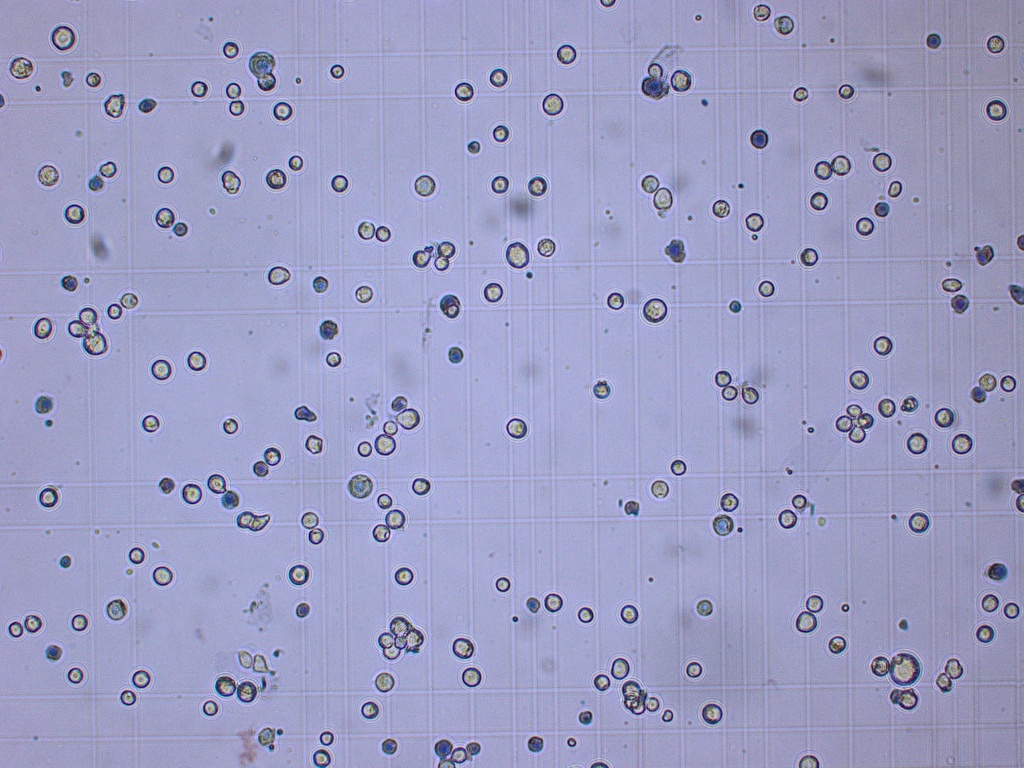Alive: (891, 652, 921, 684), (238, 511, 271, 532), (505, 242, 529, 270), (642, 298, 667, 322), (84, 334, 107, 356), (181, 482, 204, 504), (348, 475, 371, 497), (451, 638, 475, 659), (104, 94, 124, 119), (670, 69, 692, 91), (53, 26, 74, 49), (10, 58, 33, 79), (908, 511, 929, 533), (38, 164, 59, 186), (506, 418, 527, 439), (702, 703, 723, 724), (796, 611, 816, 633), (543, 94, 563, 116), (155, 207, 175, 229), (106, 600, 128, 620), (396, 410, 419, 429), (906, 434, 927, 454), (385, 509, 406, 529), (415, 177, 436, 197), (66, 203, 86, 224), (151, 360, 172, 380), (611, 657, 630, 679), (222, 171, 240, 194), (238, 680, 256, 703), (266, 170, 286, 190), (153, 565, 173, 585), (653, 187, 672, 208), (375, 435, 396, 454), (34, 318, 53, 339), (188, 351, 207, 372), (216, 675, 235, 696), (934, 408, 956, 426), (268, 267, 290, 285), (872, 152, 892, 171), (987, 100, 1006, 120), (537, 237, 556, 257), (556, 45, 576, 64), (775, 15, 794, 34), (488, 68, 507, 87), (544, 593, 563, 612), (289, 565, 308, 584), (207, 474, 226, 493), (871, 657, 891, 675), (483, 284, 503, 302), (305, 434, 323, 454), (390, 616, 408, 636), (849, 372, 870, 389), (778, 509, 796, 528), (872, 337, 891, 355), (832, 156, 851, 174), (987, 35, 1005, 54), (944, 659, 963, 677), (620, 605, 639, 623), (528, 177, 547, 195), (413, 249, 432, 267), (455, 82, 473, 101), (39, 488, 58, 506), (252, 654, 270, 673), (377, 631, 395, 650), (809, 192, 829, 209), (651, 480, 669, 498), (607, 291, 625, 309), (856, 217, 874, 235), (463, 668, 481, 686), (719, 493, 738, 510), (953, 435, 972, 452), (877, 400, 896, 417), (373, 524, 390, 543), (301, 511, 320, 528), (330, 174, 349, 191), (936, 672, 952, 692), (829, 635, 846, 653), (376, 673, 394, 690), (312, 749, 330, 766), (106, 302, 123, 320), (263, 447, 281, 464), (128, 547, 146, 564), (25, 614, 42, 632), (835, 416, 854, 432), (274, 102, 290, 121), (120, 293, 139, 309), (359, 220, 374, 240), (814, 162, 831, 179), (713, 200, 730, 217), (642, 175, 659, 192), (807, 595, 824, 612), (982, 594, 999, 611), (976, 626, 993, 643), (801, 248, 819, 264), (979, 373, 995, 391), (743, 386, 759, 404), (395, 568, 413, 584), (98, 162, 117, 177), (746, 214, 762, 231), (900, 692, 917, 708), (859, 413, 876, 429), (491, 176, 508, 192), (223, 42, 239, 59), (142, 416, 159, 432), (133, 671, 150, 687), (577, 607, 595, 622), (437, 241, 455, 256), (159, 166, 174, 184), (239, 650, 254, 668), (800, 755, 820, 768), (754, 4, 770, 20), (492, 125, 508, 141), (225, 82, 241, 98), (594, 382, 610, 398), (838, 84, 855, 99), (495, 577, 512, 592), (361, 702, 378, 717), (67, 668, 84, 683), (698, 599, 713, 616), (191, 82, 209, 96), (648, 63, 664, 78), (594, 674, 610, 689), (412, 478, 427, 494), (356, 441, 372, 456), (377, 493, 392, 509), (356, 286, 372, 301), (72, 614, 87, 630), (8, 622, 23, 638), (120, 688, 135, 704), (203, 700, 219, 715), (759, 281, 773, 298), (307, 530, 324, 544), (80, 307, 97, 321), (67, 322, 84, 336), (1000, 376, 1015, 391), (687, 662, 702, 677), (330, 64, 345, 79), (87, 72, 102, 87), (222, 418, 237, 433), (671, 458, 685, 474), (792, 494, 806, 510), (793, 87, 809, 101), (1004, 602, 1018, 618), (325, 353, 341, 367), (377, 225, 390, 242), (943, 279, 961, 291), (723, 385, 738, 399), (383, 421, 398, 435), (433, 256, 448, 270), (714, 372, 730, 385), (849, 430, 865, 443), (383, 647, 399, 660), (450, 748, 466, 761), (889, 180, 901, 197), (289, 156, 303, 170), (229, 101, 243, 115), (646, 696, 659, 710), (318, 732, 333, 744), (1016, 493, 1024, 515), (847, 405, 861, 416), (600, 1, 615, 7)
Dead: (250, 53, 275, 76), (640, 79, 666, 99), (665, 240, 687, 262), (713, 515, 735, 536), (439, 295, 460, 317), (976, 245, 993, 267), (319, 320, 338, 339), (257, 72, 276, 91), (750, 129, 768, 148), (951, 295, 970, 313), (1008, 284, 1024, 305), (258, 727, 276, 745), (294, 404, 312, 421), (989, 563, 1008, 579), (221, 491, 238, 508), (435, 740, 451, 758), (36, 396, 52, 413), (390, 396, 407, 412), (623, 500, 641, 515), (139, 98, 158, 112), (449, 347, 465, 363), (295, 602, 310, 618), (48, 646, 64, 661), (62, 275, 77, 291), (971, 387, 987, 402), (526, 597, 540, 614), (313, 277, 330, 291), (466, 741, 481, 756), (383, 740, 398, 755), (254, 462, 269, 477), (173, 222, 188, 237), (926, 33, 940, 48), (526, 737, 541, 751), (160, 478, 174, 493), (88, 176, 102, 190), (1011, 478, 1024, 493), (875, 202, 888, 216), (468, 140, 481, 154), (579, 712, 594, 724), (730, 300, 741, 314), (891, 688, 900, 703), (60, 556, 72, 567), (1017, 234, 1024, 249)
